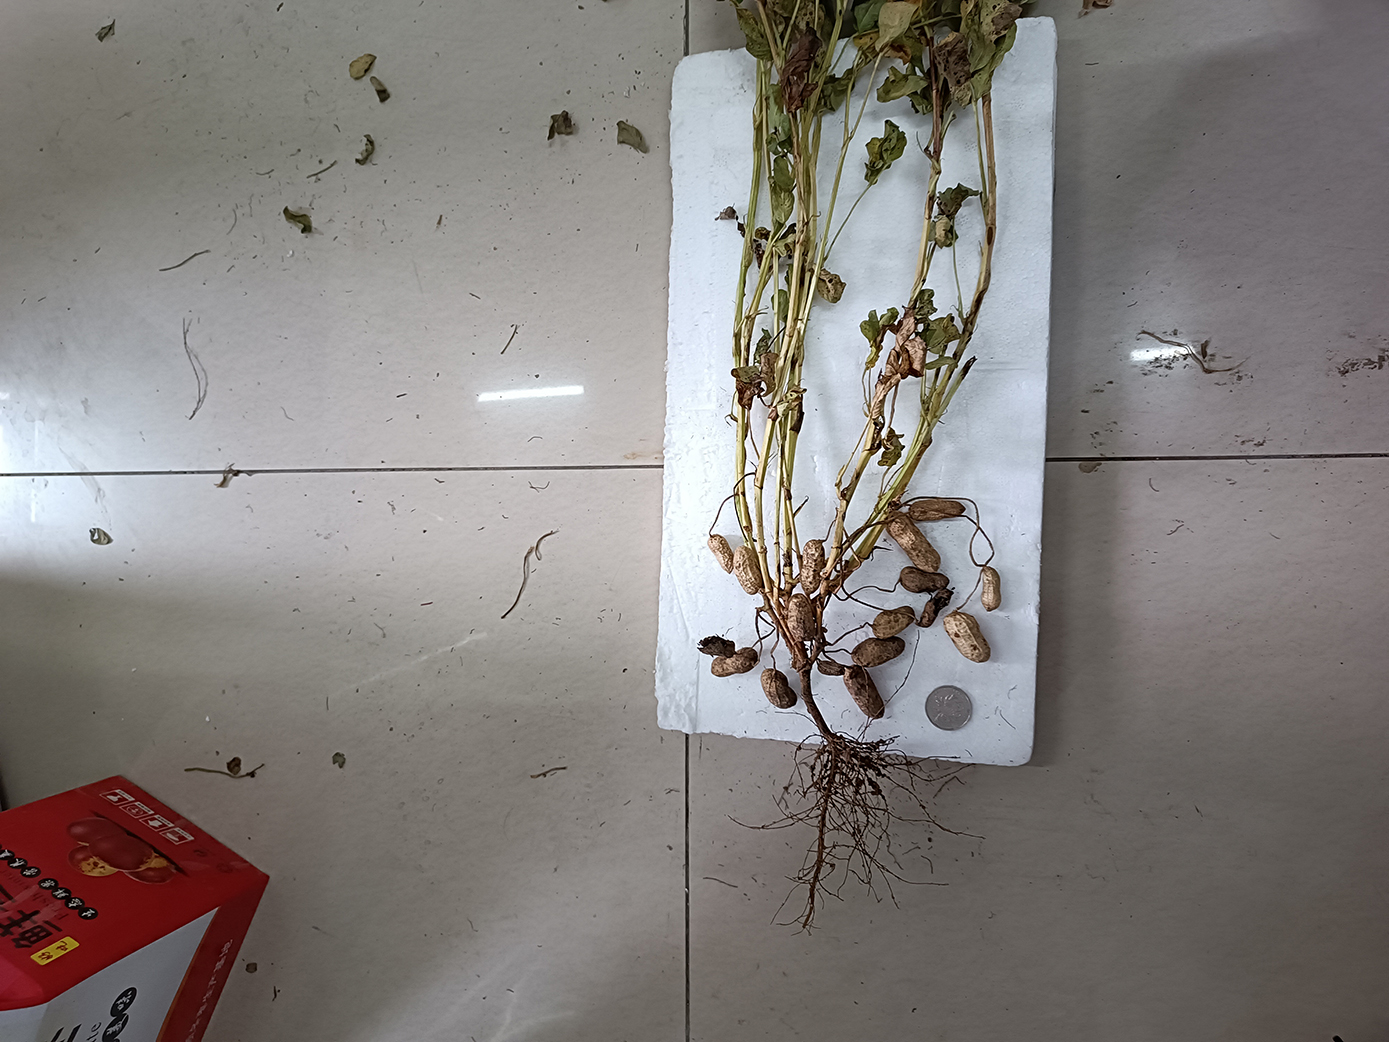h: (886, 511, 941, 574), (942, 611, 991, 663), (761, 668, 797, 709), (872, 604, 915, 638), (786, 593, 815, 640), (733, 545, 761, 595), (707, 533, 734, 574), (980, 566, 1002, 613)
l: (843, 664, 886, 719), (850, 636, 906, 667), (918, 587, 954, 629), (710, 647, 759, 678), (899, 566, 950, 593), (800, 539, 825, 594), (908, 499, 965, 521), (696, 633, 736, 658), (817, 660, 845, 676)
